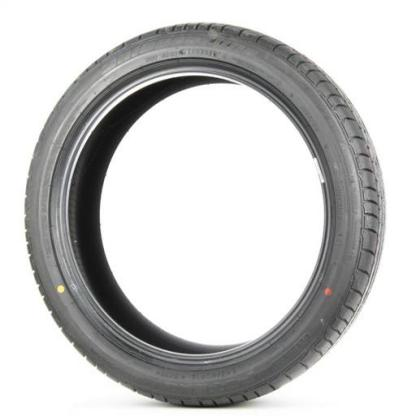Tire: (24, 21, 388, 409)
